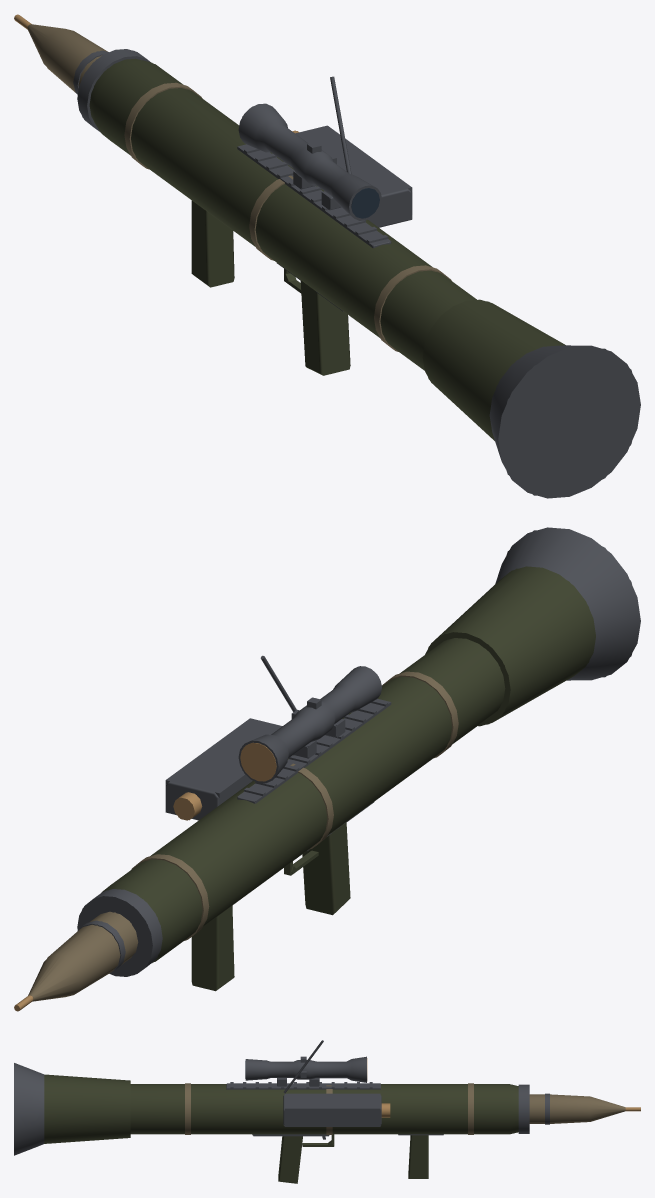
File: seeker.glb
3 renders of one model, top to bottom at view 1: azimuth 30°, elevation 25°; view 2: azimuth 150°, elevation 25°; view 3: azimuth 270°, elevation 25°, orthographic. The views are drawn at different scales.
Parts seen in each view (by area): view 1: L0, L1; view 2: L0, L1; view 3: L0, L1.
Part boxes in pixels (left/top/right/bottom): L0: left=14, top=14, right=640, bottom=498; L1: left=15, top=14, right=640, bottom=496; L0: left=14, top=527, right=640, bottom=1011; L1: left=14, top=530, right=632, bottom=1011; L0: left=14, top=1040, right=640, bottom=1183; L1: left=14, top=1057, right=640, bottom=1155.
Size of the model in its own units: 0.1975 by 0.3262 by 1.24.
